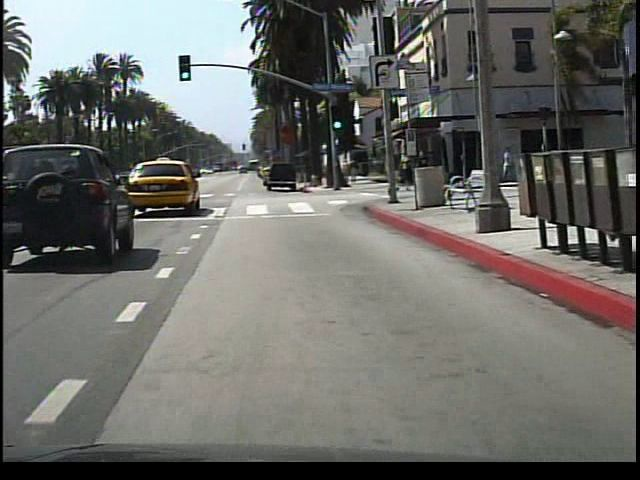person: (393, 148, 409, 196), (498, 143, 515, 187)
